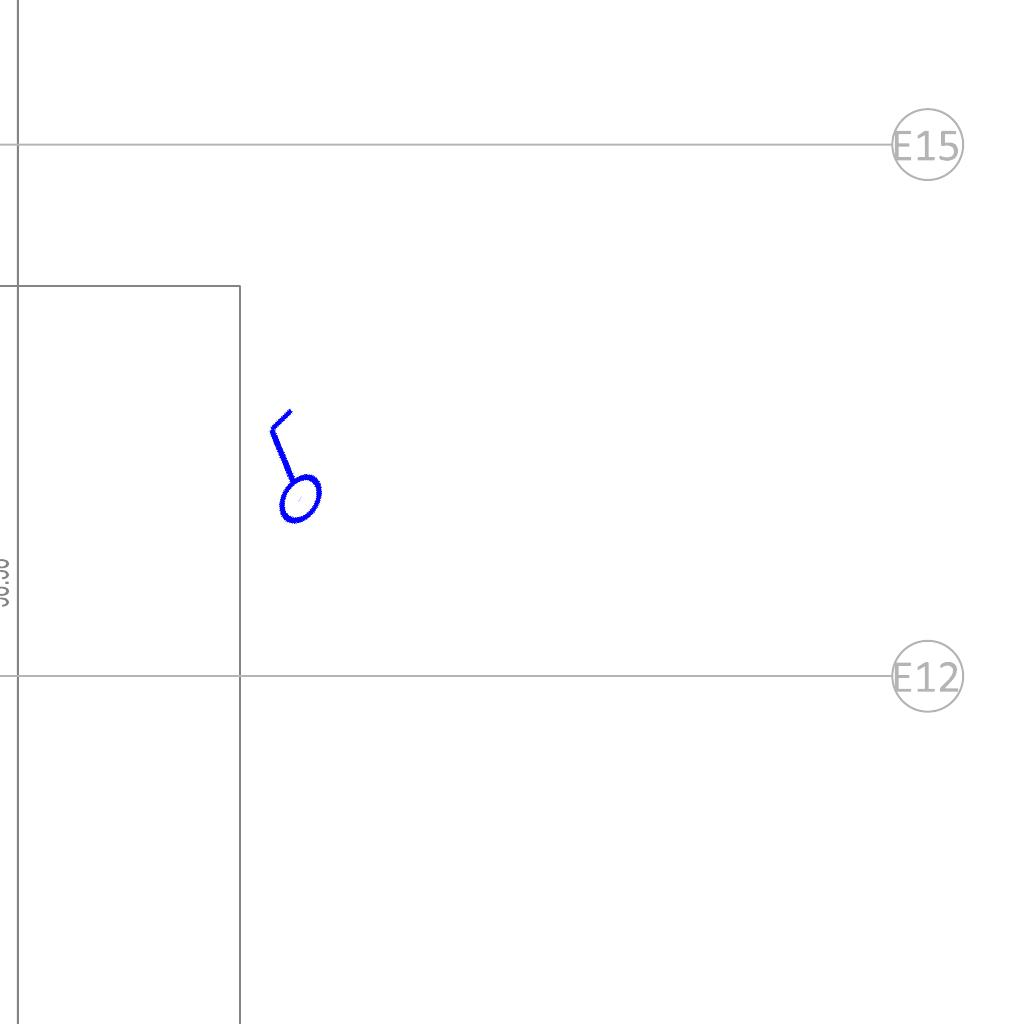Ausschalter: (217, 397, 359, 543)
